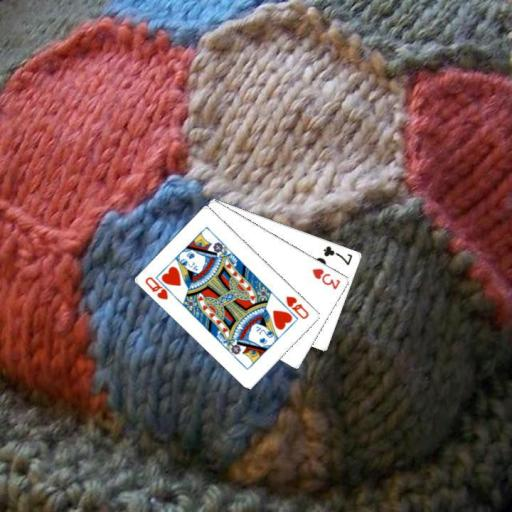3H: (309, 265, 342, 291)
7C: (320, 243, 354, 267)
QH: (142, 273, 178, 302), (283, 293, 311, 321)
